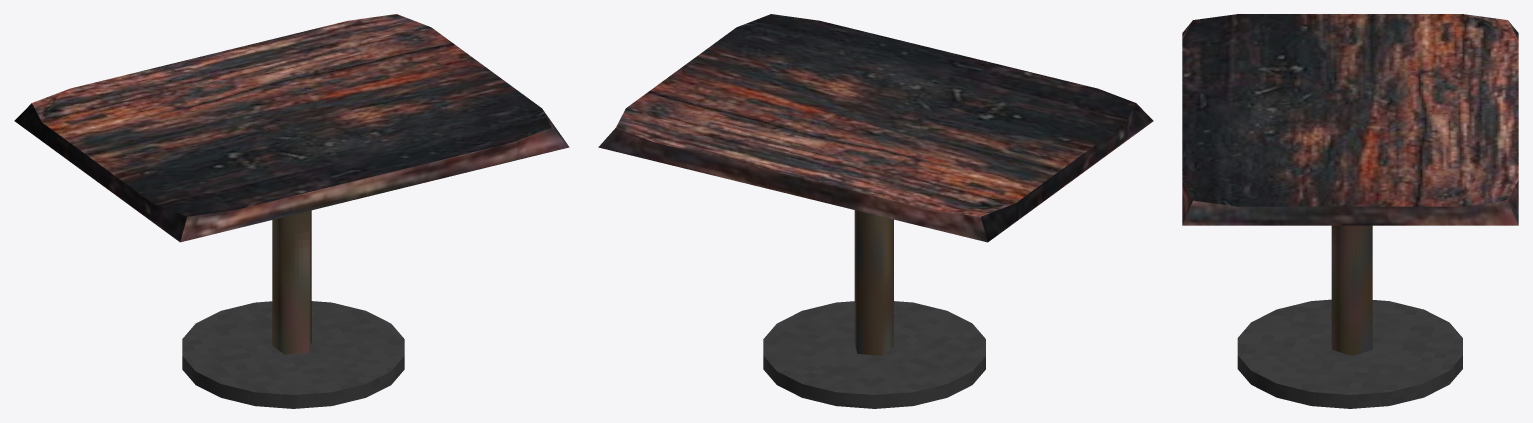
File: stoliczeka.glb
3 renders of one model, left to right at view 1: azimuth 30°, elevation 25°; view 2: azimuth 150°, elevation 25°; view 3: azimuth 270°, elevation 25°, orthographic.
Parts seen in each view (by area): view 1: Box001, Cylinder005, Cylinder004; view 2: Box001, Cylinder005, Cylinder004; view 3: Box001, Cylinder005, Cylinder004.
Boxes of the visible parts, x1=… form: Box001: x1=14, y1=14, x2=569, y2=242; Cylinder005: x1=182, y1=301, x2=404, y2=408; Cylinder004: x1=272, y1=210, x2=311, y2=354; Box001: x1=598, y1=14, x2=1153, y2=242; Cylinder005: x1=763, y1=301, x2=985, y2=408; Cylinder004: x1=854, y1=210, x2=893, y2=355; Box001: x1=1182, y1=14, x2=1518, y2=225; Cylinder005: x1=1237, y1=299, x2=1462, y2=408; Cylinder004: x1=1331, y1=225, x2=1372, y2=355.
Size of the model in its own units: 0.6328 by 0.3821 by 0.4668.
3 materials, 3 textured.
